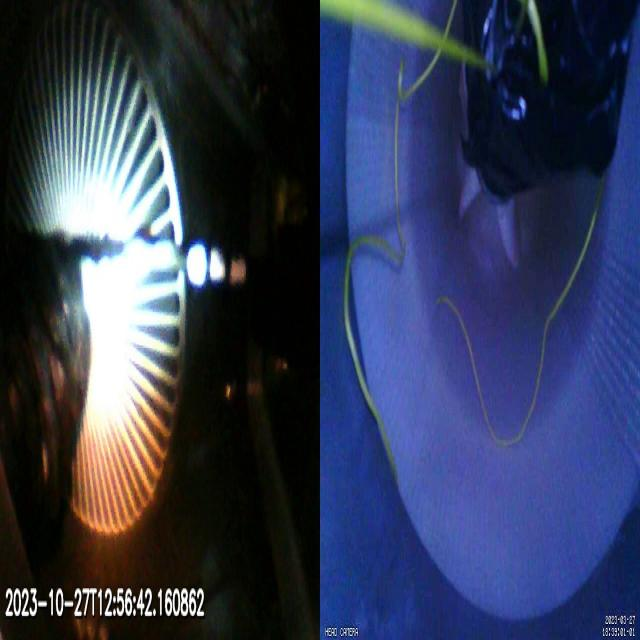white-dots: (187, 245, 245, 288)
